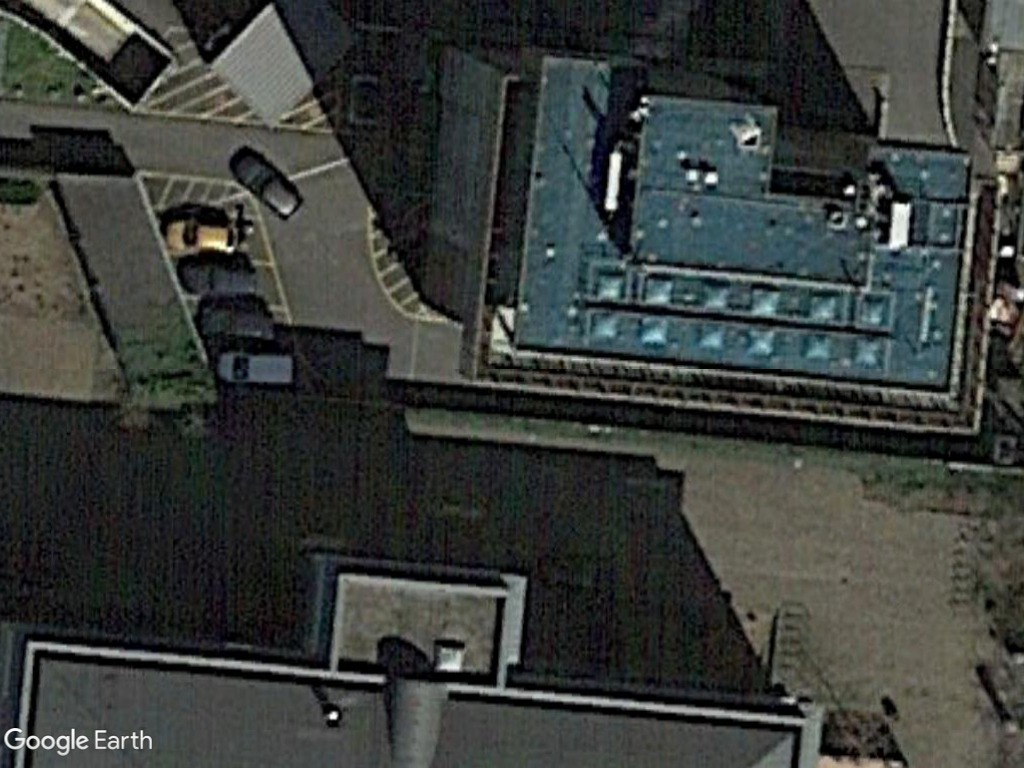car: (227, 149, 304, 220), (159, 215, 248, 262)
van: (215, 348, 302, 391)
